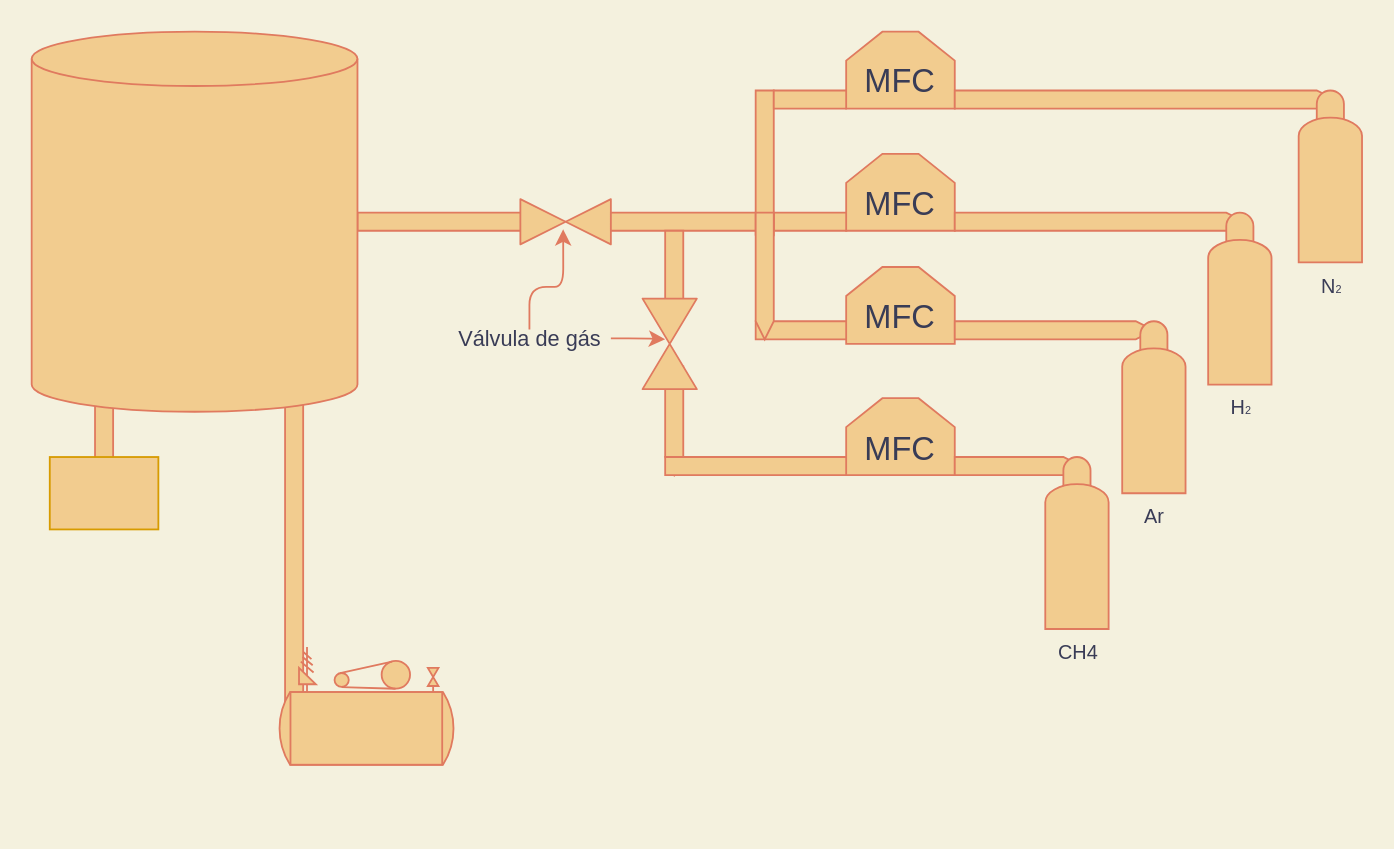
The diagram is 1394 pixels wide and 849 high, and some of its shapes have lost their labels. Here are the shapes that lost their labels. From the top down, the centre of each, then its label:
the point at 193,221: Câmara de vácuo
the point at 103,492: Pirani
the point at 365,705: Bomba de vácuo
